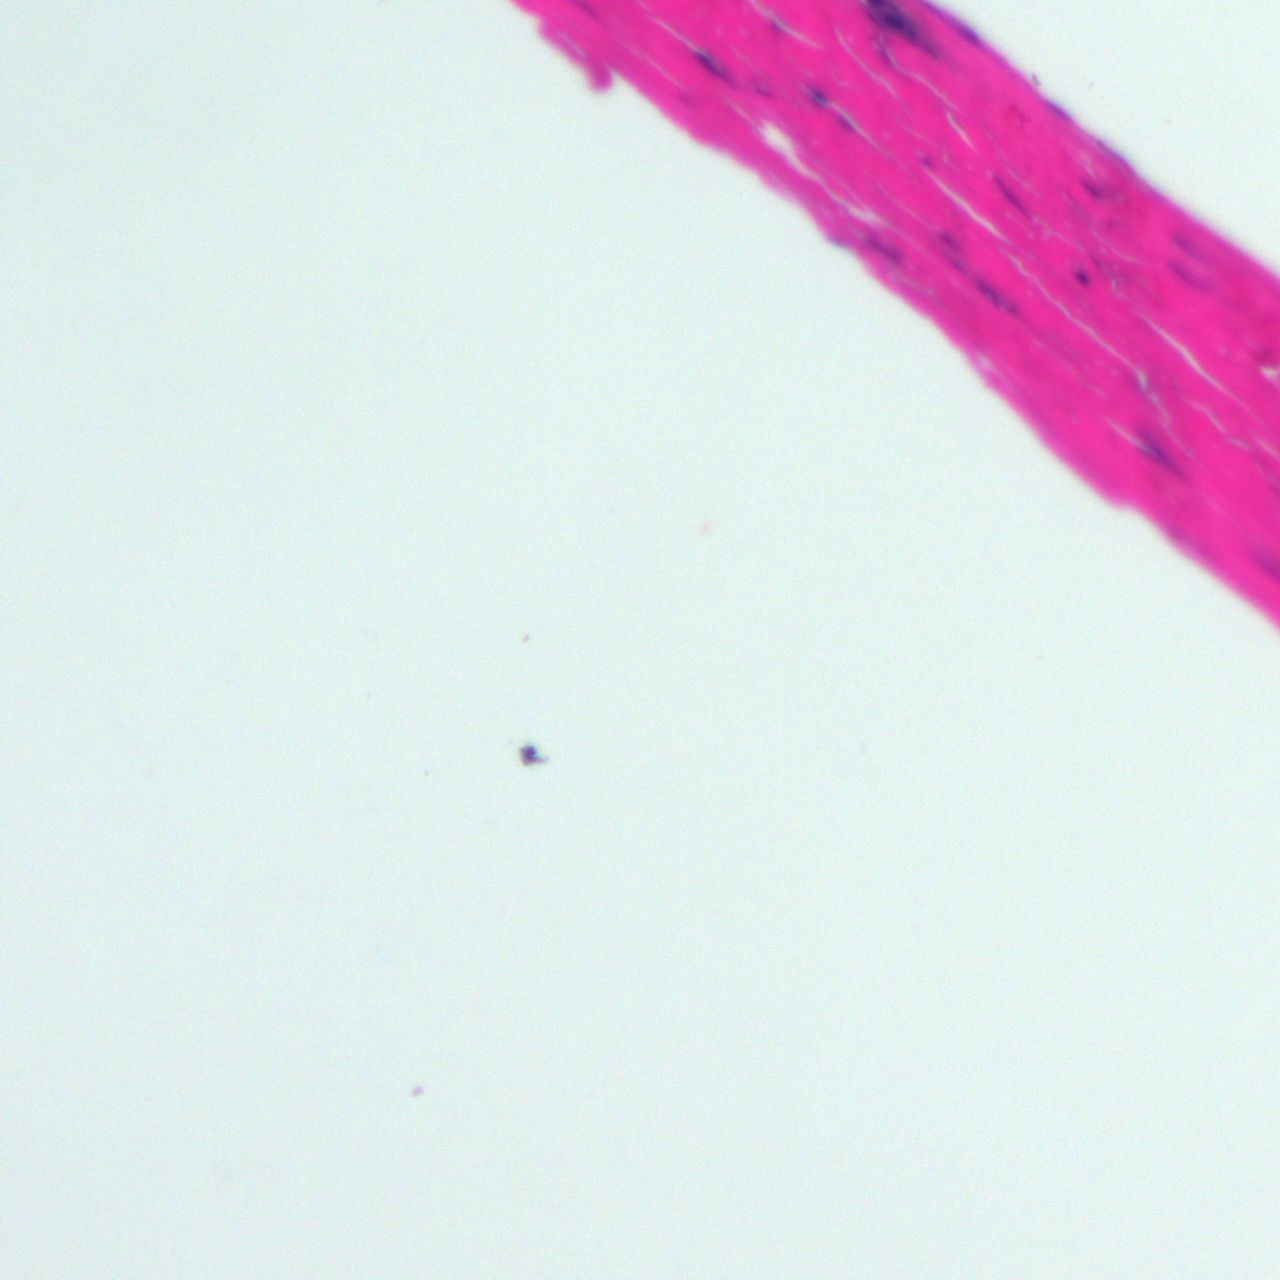nucleus-HE: (946, 250, 1024, 321), (1152, 245, 1220, 307), (1122, 426, 1190, 485), (984, 170, 1035, 220), (687, 43, 736, 89), (864, 230, 911, 274), (805, 85, 828, 107), (1070, 265, 1089, 287)
